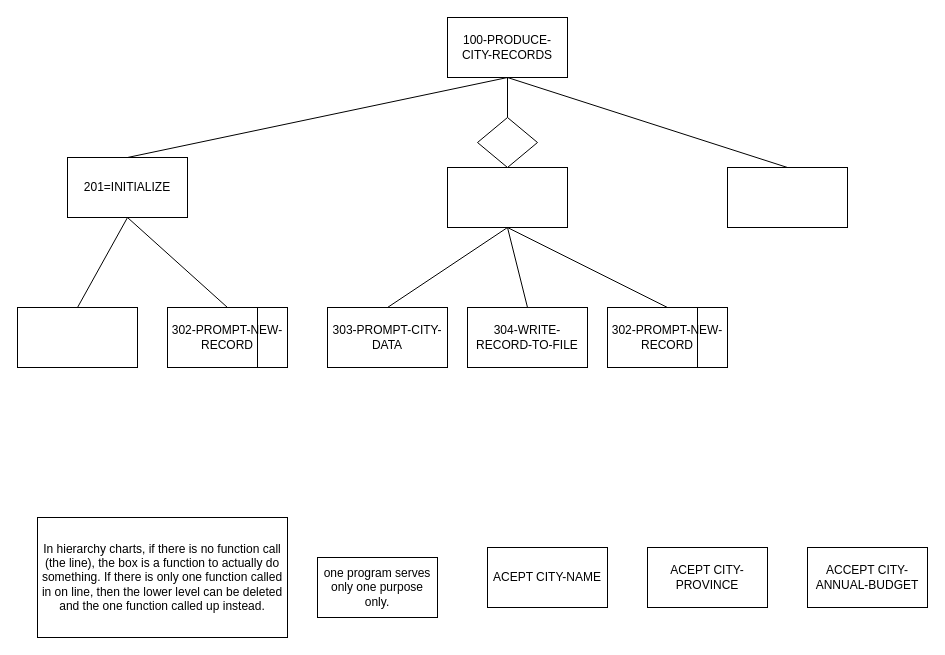
The diagram is 945 pixels wide and 655 high, and some of its shapes have lost their labels. Here are the shapes that lost their labels. From the top down, the box of each, then its label:
(446, 166, 568, 228): 202-PRODUCE-ONE-CITY-RECORD
(726, 166, 848, 228): 205-CLOSE-FILE
(16, 306, 138, 368): 301-OPEN-CITY-RECORD
